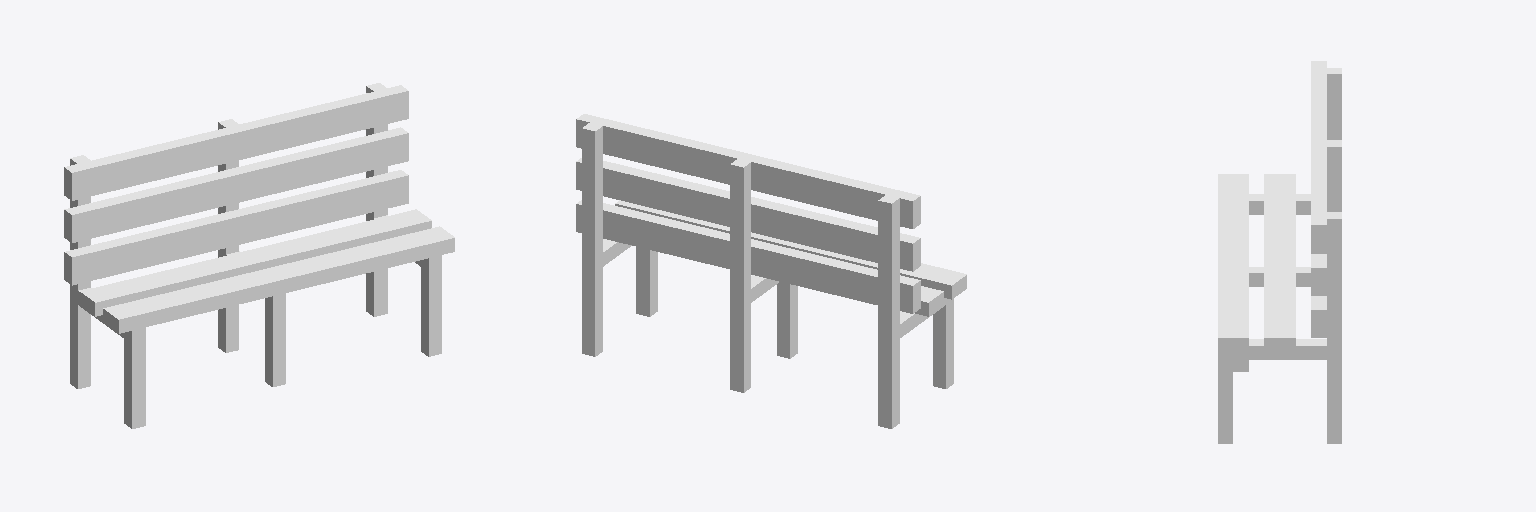
File: gglive_bench.obj
3 renders of one model, left to right at view 1: azimuth 30°, elevation 25°; view 2: azimuth 150°, elevation 25°; view 3: azimuth 270°, elevation 25°, orthographic.
Parts seen in each view (by area): view 1: gglive_bench; view 2: gglive_bench; view 3: gglive_bench.
Boxes of the visible parts, x1=… form: gglive_bench: x1=64, y1=83, x2=454, y2=428; gglive_bench: x1=576, y1=114, x2=966, y2=428; gglive_bench: x1=1218, y1=61, x2=1341, y2=443.
Size of the model in its own units: 25 by 16 by 8.